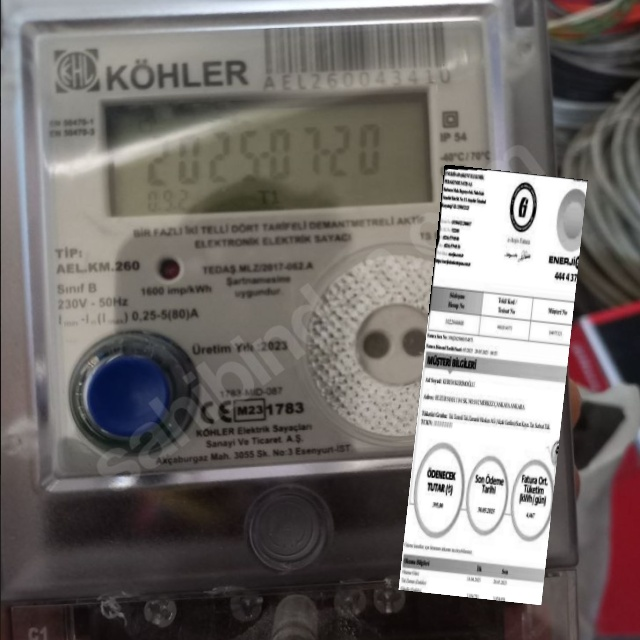electricity-bill: (397, 164, 587, 604)
